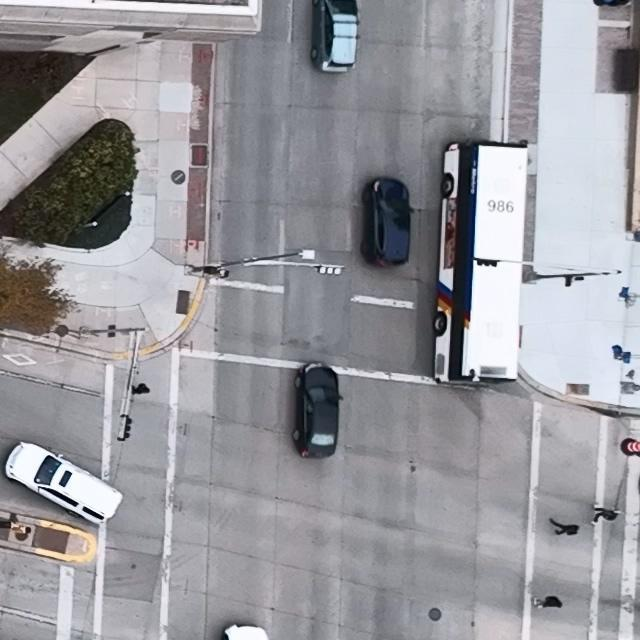car: (433, 139, 529, 385), (5, 440, 123, 524), (292, 360, 344, 459), (361, 177, 416, 269), (312, 0, 361, 74)
